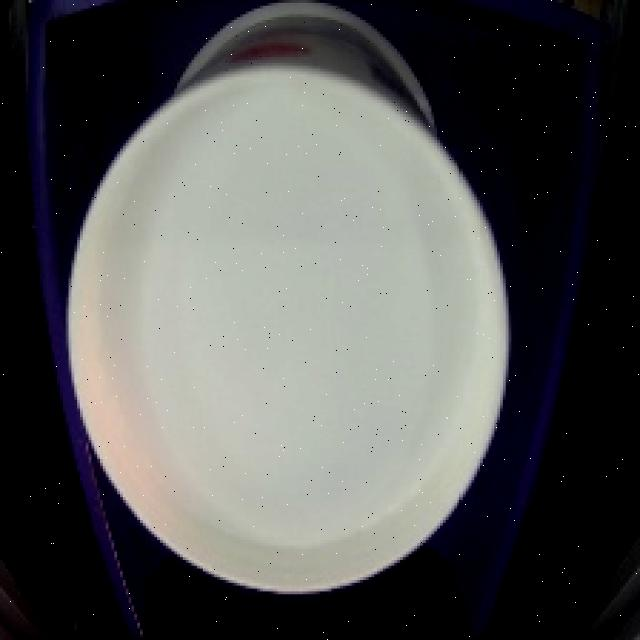cups: (52, 0, 523, 605)
